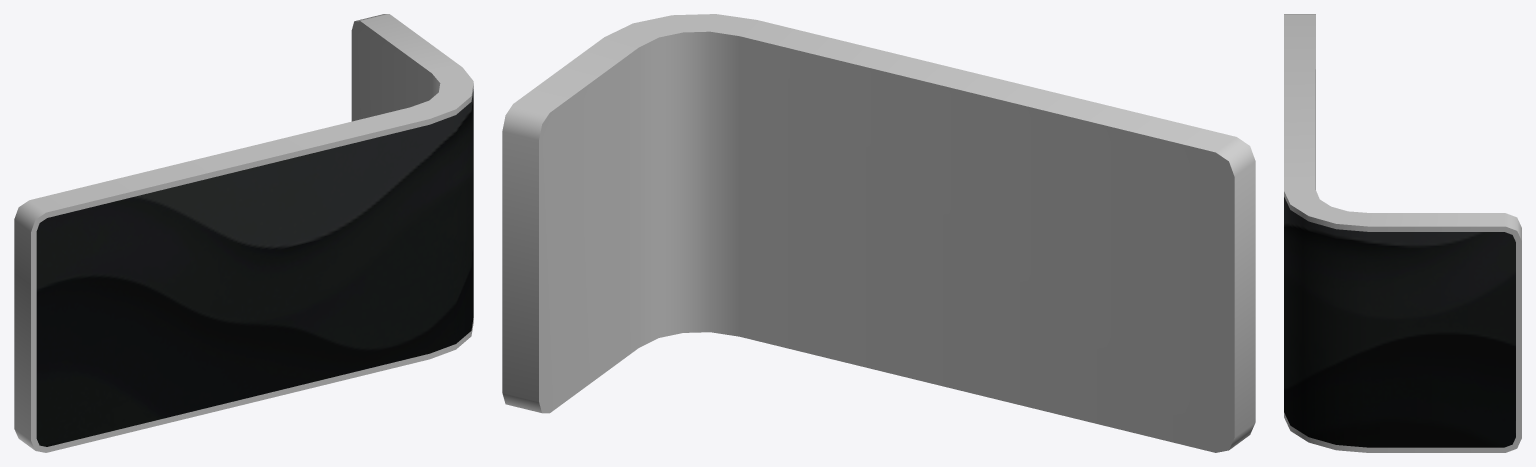
Rendered from Billboard_3x1_03.fbx.
3 views of the same model, side by side, from view 1: azimuth 30°, elevation 25°; view 2: azimuth 150°, elevation 25°; view 3: azimuth 270°, elevation 25° (orthographic). The views are drawn at different scales.
Parts seen in each view (by area): view 1: Billboard_3x1_03; view 2: Billboard_3x1_03; view 3: Billboard_3x1_03.
Part boxes in pixels (bbox=[...]): Billboard_3x1_03: bbox=[14, 14, 473, 452]; Billboard_3x1_03: bbox=[502, 14, 1255, 452]; Billboard_3x1_03: bbox=[1284, 14, 1521, 452].
Size of the model in its own units: 1035 by 475 by 499.
